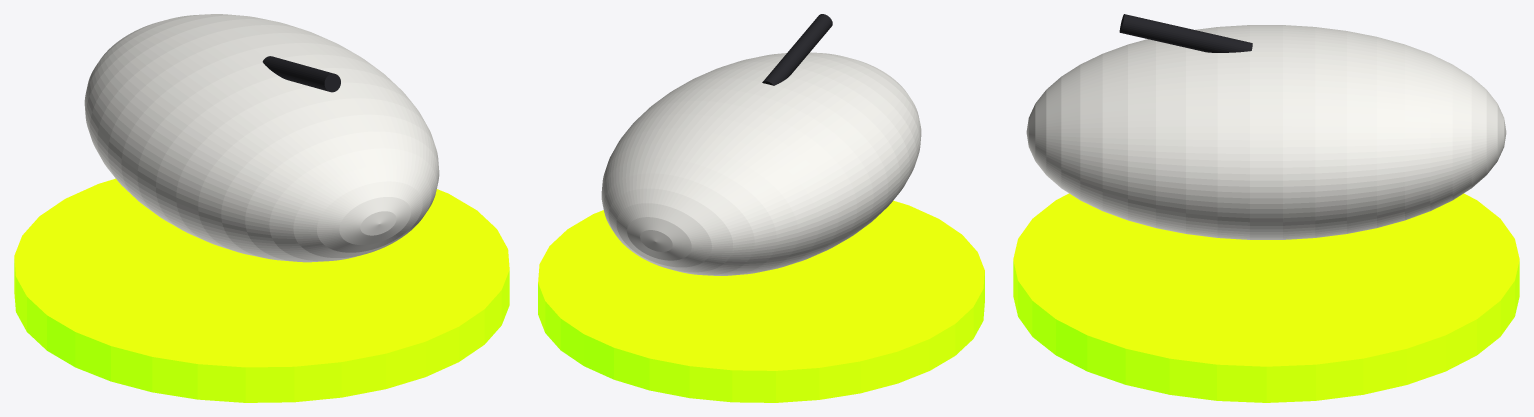
Rendered from tech_mouse.glb.
3 views of the same model, side by side, from view 1: azimuth 30°, elevation 25°; view 2: azimuth 150°, elevation 25°; view 3: azimuth 270°, elevation 25° (orthographic). The views are drawn at different scales.
Visible parts, largest first — view 1: 08_11_Popular_Tech_Mouse_ROOT_base, 08_11_Popular_Tech_Mouse_part_01, 08_11_Popular_Tech_Mouse_part_02; view 2: 08_11_Popular_Tech_Mouse_ROOT_base, 08_11_Popular_Tech_Mouse_part_01, 08_11_Popular_Tech_Mouse_part_02; view 3: 08_11_Popular_Tech_Mouse_part_01, 08_11_Popular_Tech_Mouse_ROOT_base, 08_11_Popular_Tech_Mouse_part_02.
Boxes of the visible parts, x1,y1,x2,y2 form: 08_11_Popular_Tech_Mouse_ROOT_base: [14, 178, 509, 402]; 08_11_Popular_Tech_Mouse_part_01: [84, 14, 439, 262]; 08_11_Popular_Tech_Mouse_part_02: [262, 56, 340, 92]; 08_11_Popular_Tech_Mouse_ROOT_base: [538, 200, 984, 402]; 08_11_Popular_Tech_Mouse_part_01: [601, 52, 921, 275]; 08_11_Popular_Tech_Mouse_part_02: [762, 14, 832, 85]; 08_11_Popular_Tech_Mouse_part_01: [1026, 25, 1506, 239]; 08_11_Popular_Tech_Mouse_ROOT_base: [1013, 193, 1519, 402]; 08_11_Popular_Tech_Mouse_part_02: [1119, 14, 1252, 52].
Bounding box in the file's own units: 0.76 × 0.4651 × 0.76.
